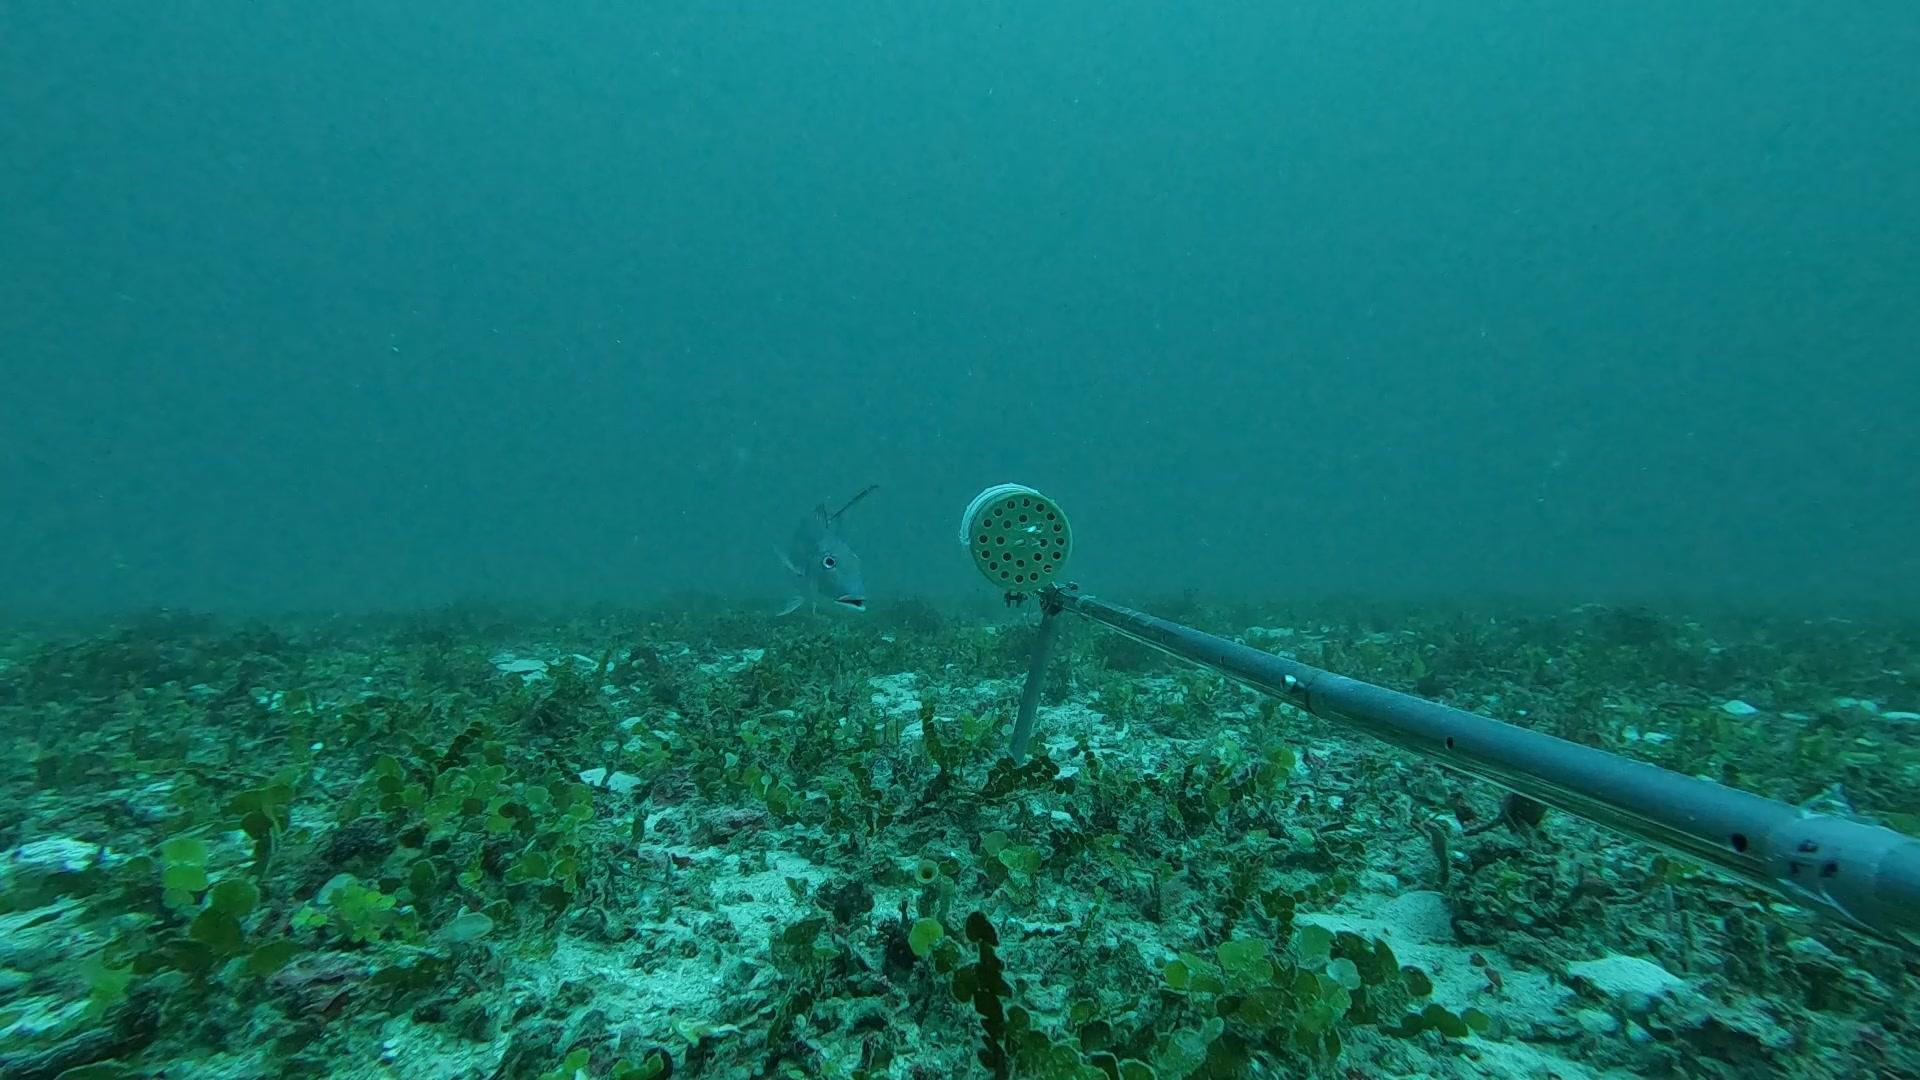fish: (756, 462, 898, 633)
